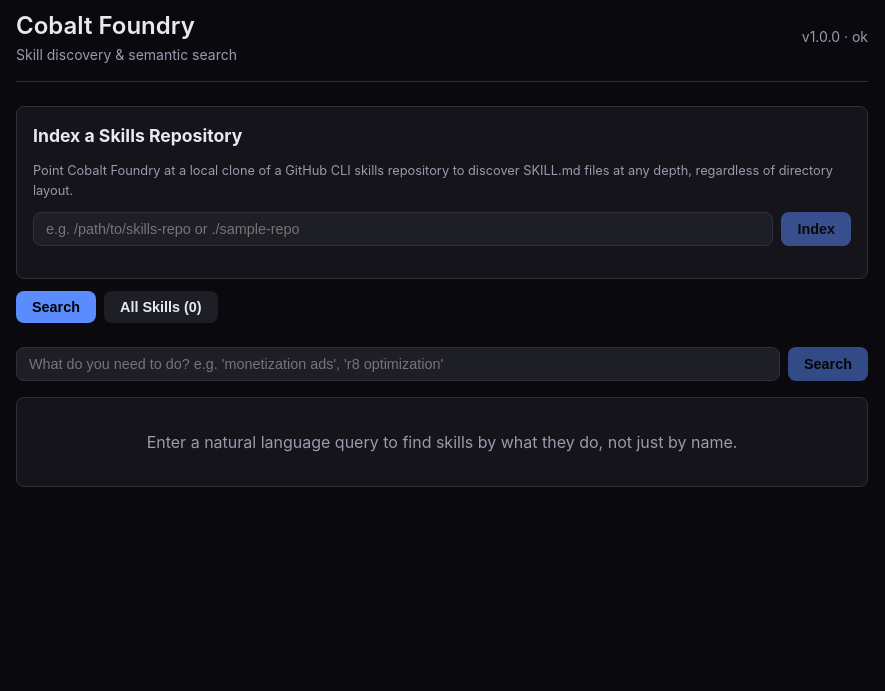
Test: App › displays indexed skills in list view
Step 1. Click the button "All Skills (0)" → {"x": 161, "y": 307}, box [104, 291, 218, 323]
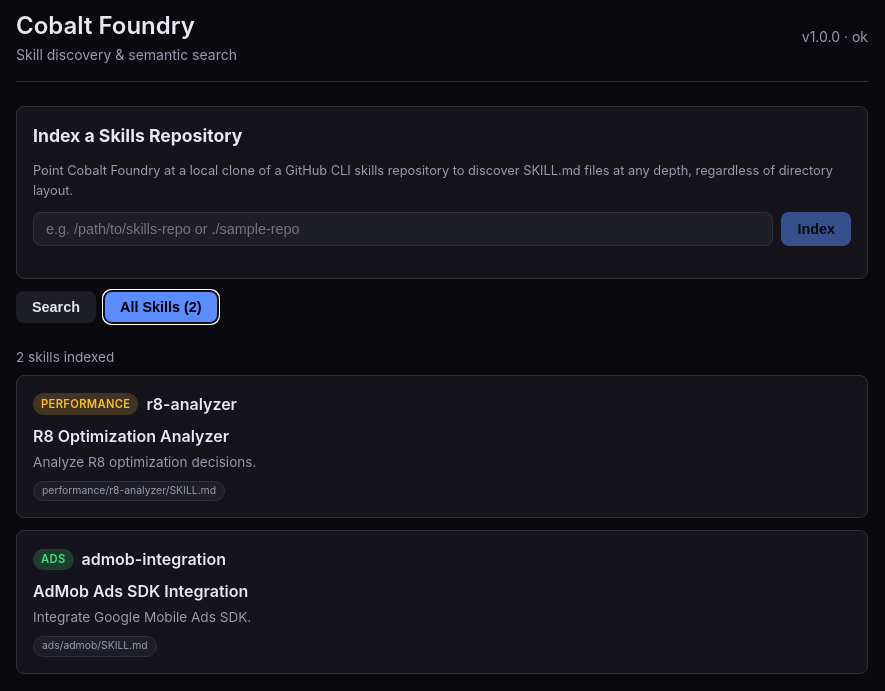
Expected: the heading "R8 Optimization Analyzer" is shown, [33, 426, 229, 446]
